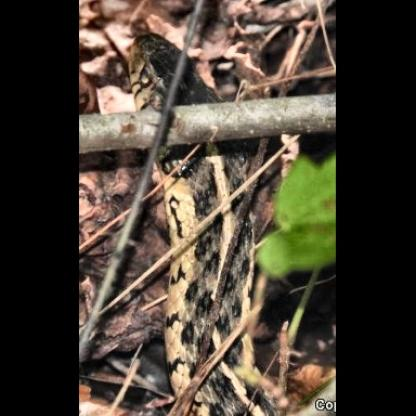Snake: (125, 30, 295, 414)
